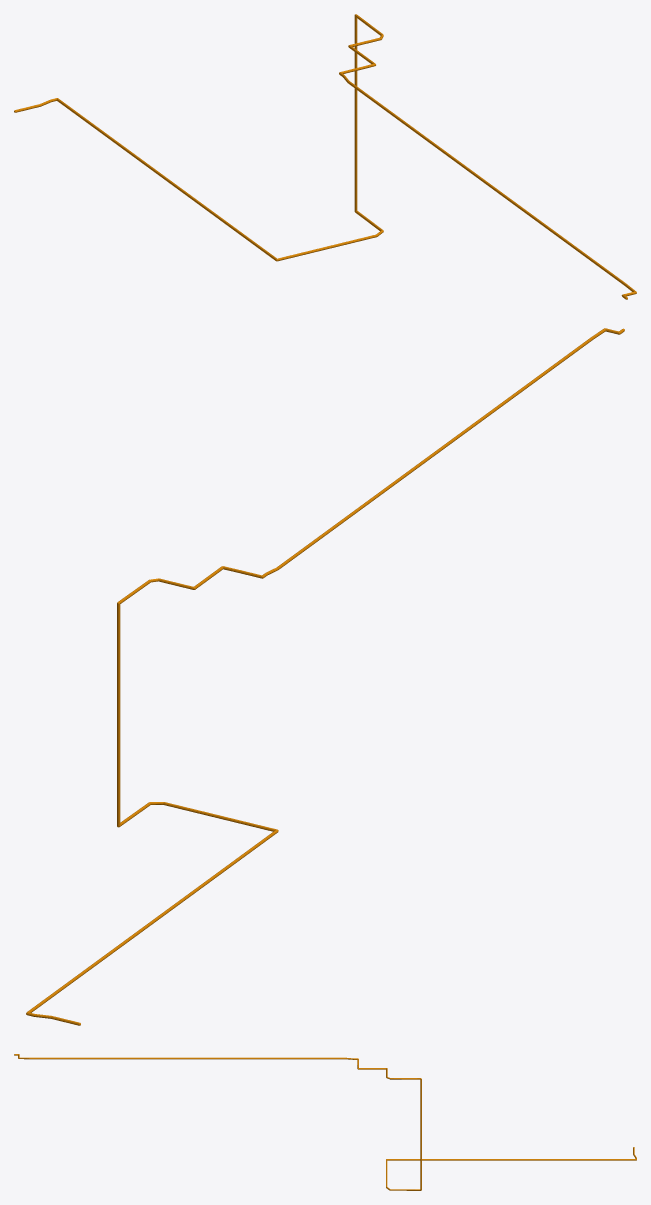
The picture shows the model from 3 angles, top to bottom: view 1: azimuth 30°, elevation 25°; view 2: azimuth 150°, elevation 25°; view 3: azimuth 270°, elevation 25°; orthographic projection. The views are drawn at different scales.
Size of the model in its own units: 1248 by 1520 by 7615.
